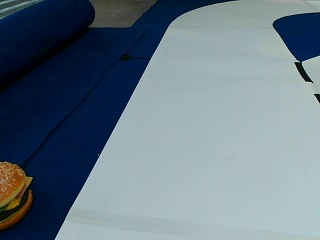burger: (0, 159, 34, 232)
